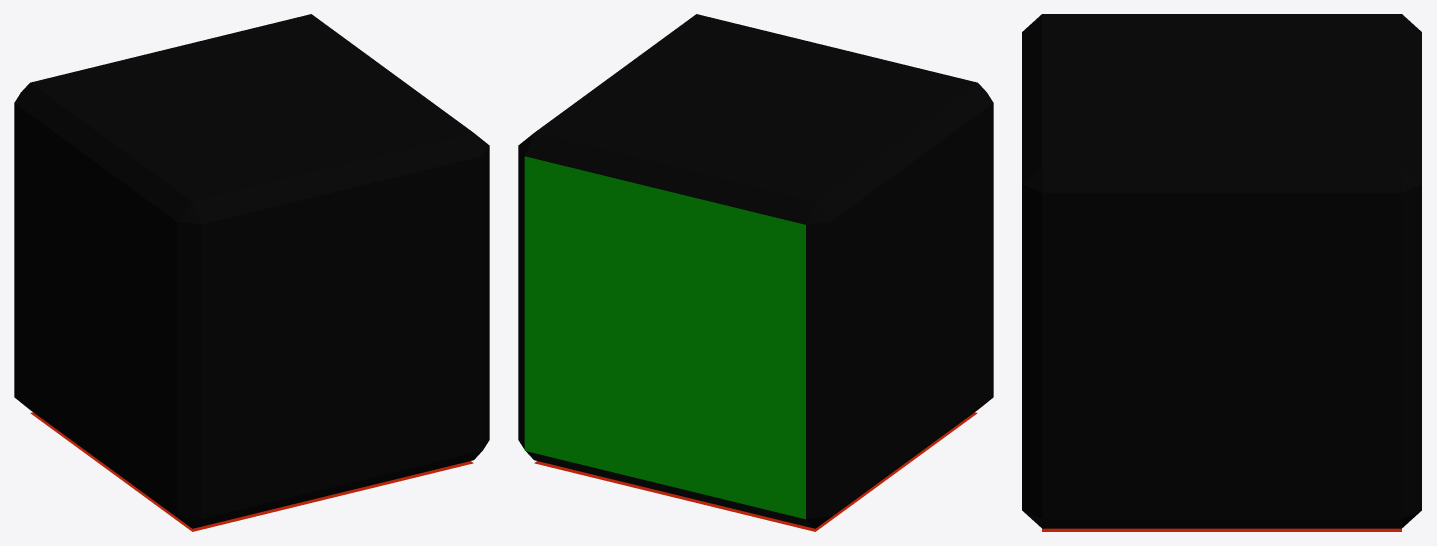
File: rubic22.obj
3 renders of one model, left to right at view 1: azimuth 30°, elevation 25°; view 2: azimuth 150°, elevation 25°; view 3: azimuth 270°, elevation 25°, orthographic. The views are drawn at different scales.
Visible parts, largest first — view 1: Cube.023_Cube.027; view 2: Cube.023_Cube.027; view 3: Cube.023_Cube.027.
Boxes of the visible parts, <box> form: Cube.023_Cube.027: <box>14,14,489,531</box>; Cube.023_Cube.027: <box>518,14,993,531</box>; Cube.023_Cube.027: <box>1022,14,1421,531</box>.
Bounding box in the file's own units: 2 × 2.02 × 2.
